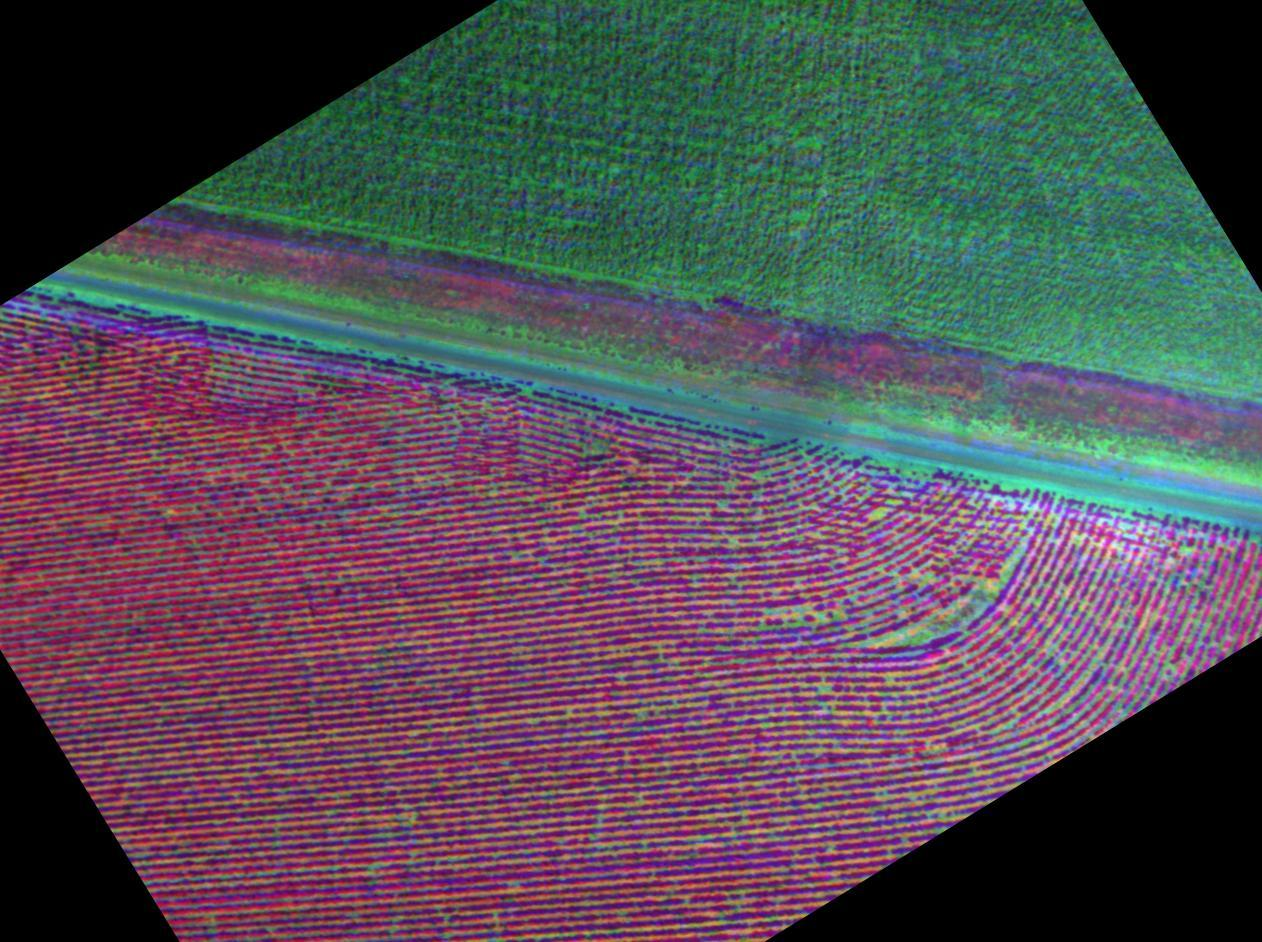dc: (873, 535, 1021, 640), (793, 658, 884, 755), (1023, 643, 1110, 741), (761, 570, 859, 653), (353, 808, 435, 880)
